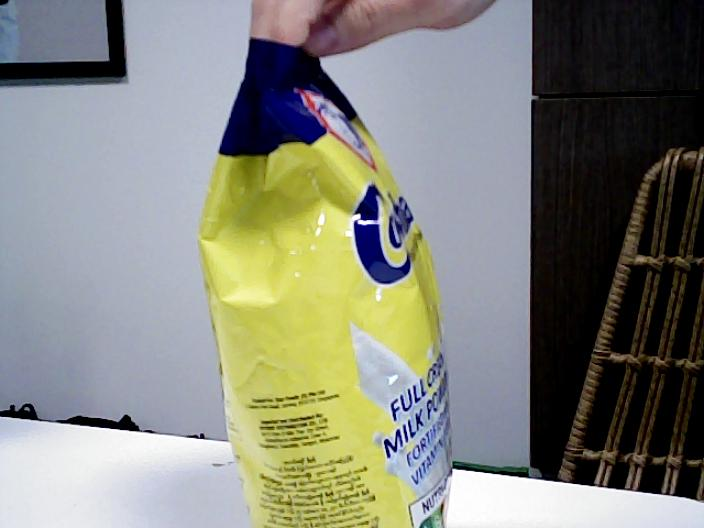Adult_Milk_500-599g_Halal_NonHealthy: (195, 50, 455, 528)
